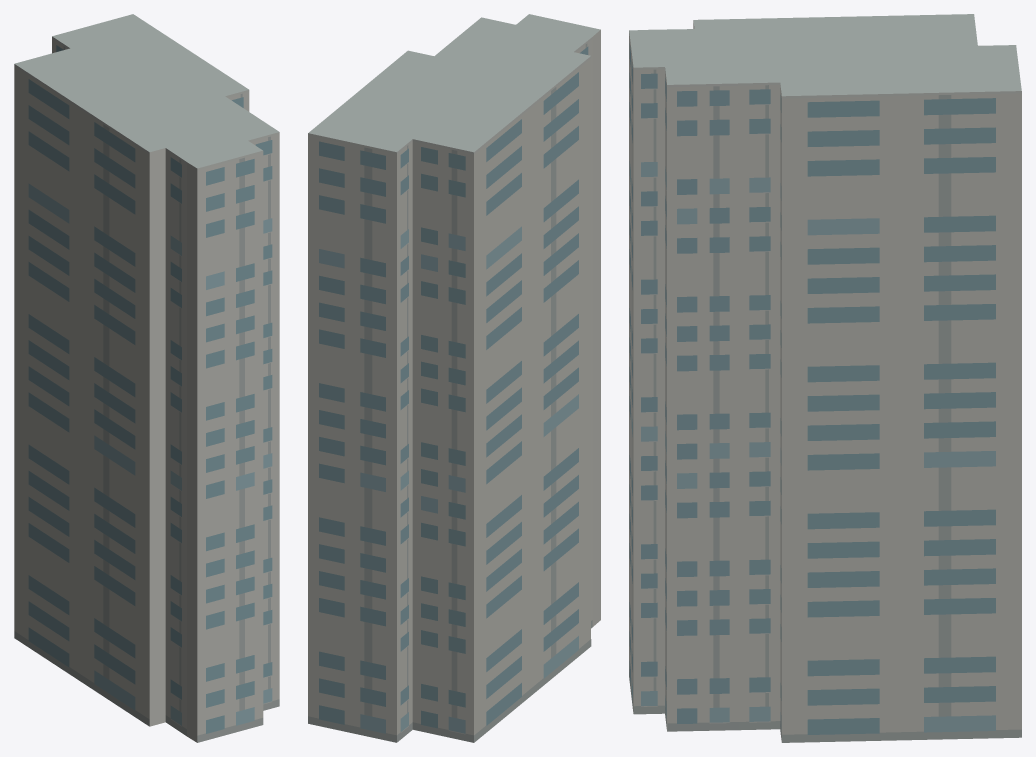
File: residential-f12e6fcc-009c-47cb-bda5-de3b6f260a91.glb
3 renders of one model, left to right at view 1: azimuth 30°, elevation 25°; view 2: azimuth 150°, elevation 25°; view 3: azimuth 270°, elevation 25°, orthographic. The views are drawn at different scales.
Parts seen in each view (by area): view 1: residential-f12e6fcc-009c-47cb-bda5-de3b6f260a91.tmp; view 2: residential-f12e6fcc-009c-47cb-bda5-de3b6f260a91.tmp; view 3: residential-f12e6fcc-009c-47cb-bda5-de3b6f260a91.tmp.
Boxes of the visible parts, box(x1,y1,x2,y2) form: residential-f12e6fcc-009c-47cb-bda5-de3b6f260a91.tmp: box(14, 14, 279, 742); residential-f12e6fcc-009c-47cb-bda5-de3b6f260a91.tmp: box(308, 14, 600, 742); residential-f12e6fcc-009c-47cb-bda5-de3b6f260a91.tmp: box(629, 14, 1021, 742).
Bounding box in the file's own units: 18.31 × 67.1 × 36.94.
